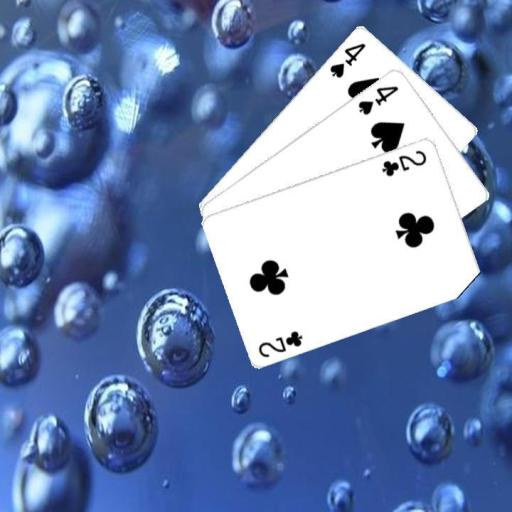2C: (379, 146, 429, 178), (256, 327, 305, 359)
4S: (326, 39, 367, 79), (355, 82, 400, 116)
